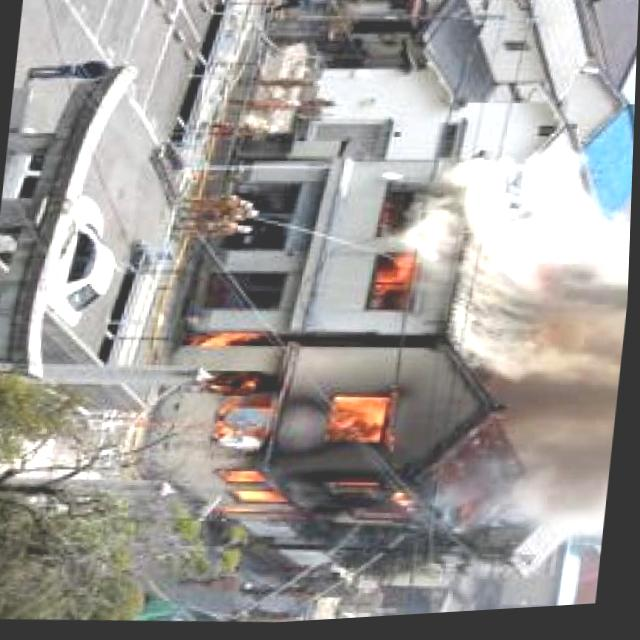helmet: (175, 306, 449, 541), (367, 254, 421, 310)
no_helmet: (422, 141, 635, 557)
